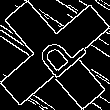P_SW: (24, 25, 86, 85)
